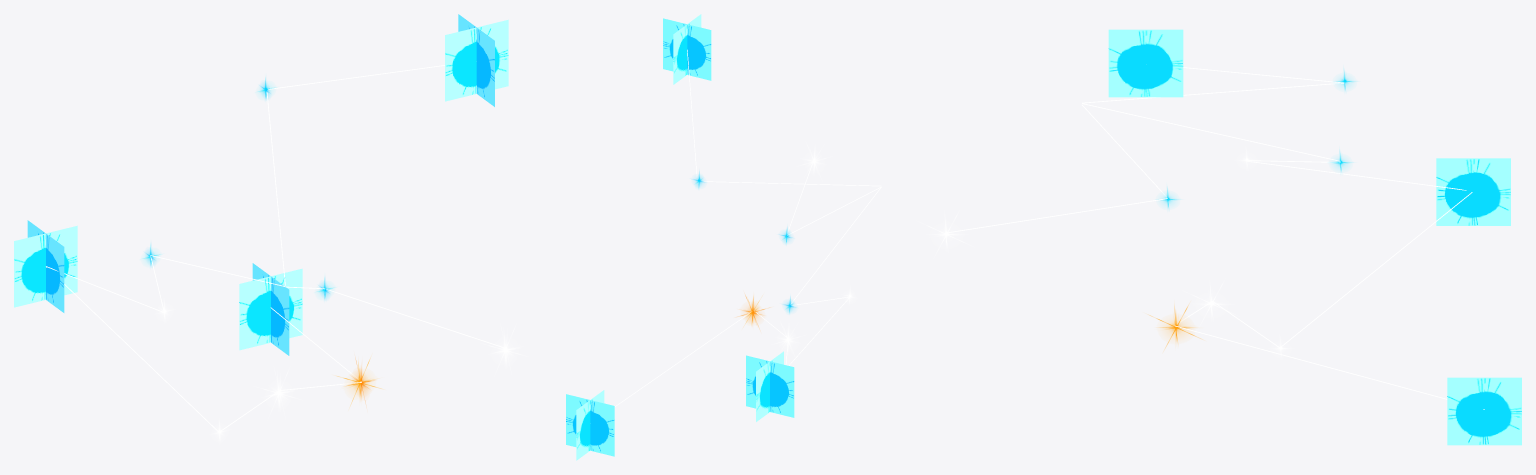
The model's file is aquarius.glb.
3 views of the same model, side by side, from view 1: azimuth 30°, elevation 25°; view 2: azimuth 150°, elevation 25°; view 3: azimuth 270°, elevation 25° (orthographic). The views are drawn at different scales.
Visible parts, largest first — view 1: star_blue_1.009, star_blue_1.011, star_blue_1.004, Aquarius_line; view 2: star_blue_1.004, star_blue_1.011, star_blue_1.009, Aquarius_line; view 3: star_blue_1.011, star_blue_1.004, star_blue_1.009, Aquarius_line.
Boxes of the visible parts, <box> form: star_blue_1.009: <box>14,220,77,312</box>; star_blue_1.011: <box>445,14,508,106</box>; star_blue_1.004: <box>239,263,302,355</box>; Aquarius_line: <box>46,65,503,432</box>; star_blue_1.004: <box>566,390,614,460</box>; star_blue_1.011: <box>663,14,711,84</box>; star_blue_1.009: <box>746,351,794,421</box>; Aquarius_line: <box>615,49,881,406</box>; star_blue_1.011: <box>1108,29,1183,97</box>; star_blue_1.004: <box>1447,377,1521,445</box>; star_blue_1.009: <box>1436,158,1510,225</box>; Aquarius_line: <box>947,67,1484,409</box>.
Size of the model in its own units: 2.88 by 3.53 by 4.5.
6 materials, 5 textured.
